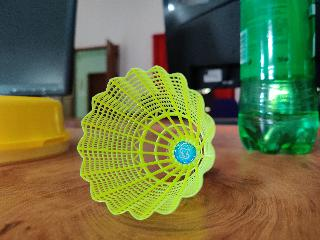shuttlecock: (76, 64, 216, 220)
